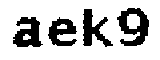9: (117, 7, 150, 51)
a: (10, 14, 43, 50)
e: (46, 17, 80, 49)
k: (80, 8, 117, 51)
